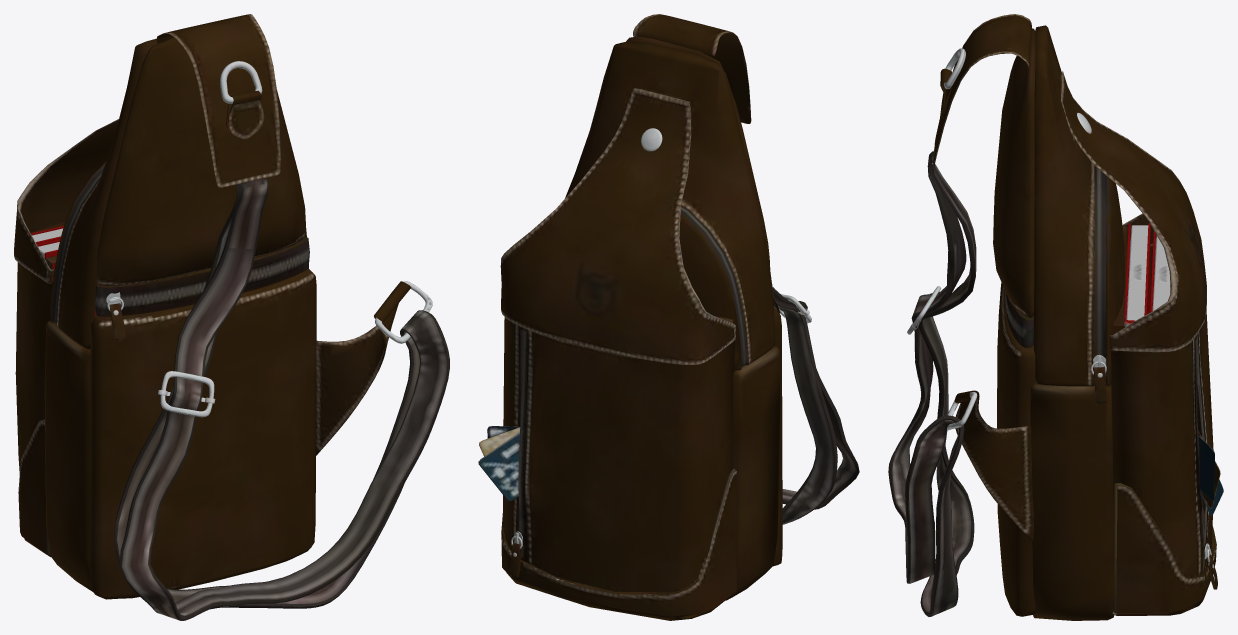
The model's file is crossbody-bag.glb.
3 views of the same model, side by side, from view 1: azimuth 30°, elevation 25°; view 2: azimuth 150°, elevation 25°; view 3: azimuth 270°, elevation 25° (orthographic). The views are drawn at different scales.
Parts seen in each view (by area): view 1: defaultMaterial.004; view 2: defaultMaterial.004; view 3: defaultMaterial.004.
Boxes of the visible parts, x1=… form: defaultMaterial.004: x1=14, y1=14, x2=449, y2=620; defaultMaterial.004: x1=478, y1=14, x2=859, y2=620; defaultMaterial.004: x1=888, y1=14, x2=1223, y2=620.
Size of the model in its own units: 0.1856 by 0.3 by 0.1656.
1 material, 1 textured.
